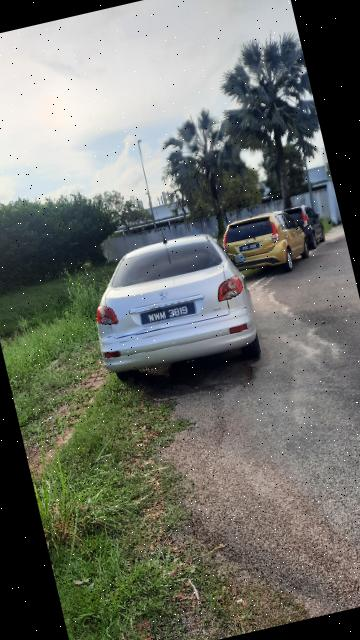License_Plate: (138, 300, 199, 328), (239, 243, 262, 255)
car: (75, 219, 267, 395), (216, 199, 340, 286)
